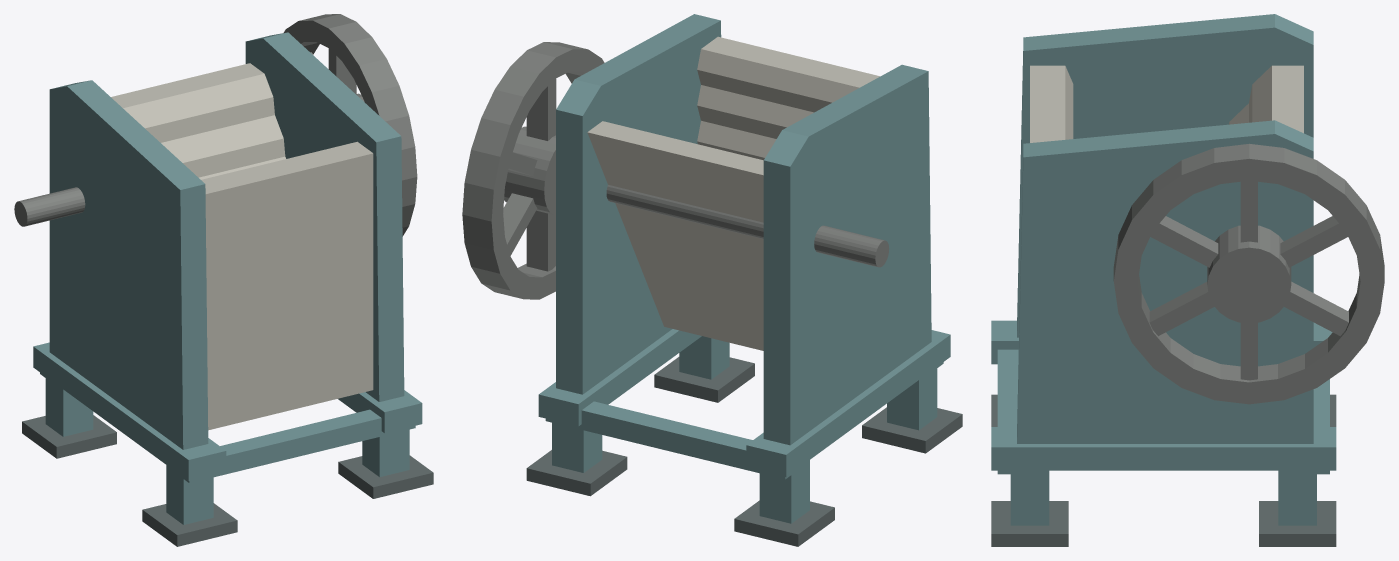
3 views of the same model, side by side, from view 1: azimuth 30°, elevation 25°; view 2: azimuth 150°, elevation 25°; view 3: azimuth 270°, elevation 25° (orthographic). The views are drawn at different scales.
Visible parts, largest first — view 1: LeftWholeCheekPlate, FixedFrontWholeCorrugatedJaw, RightWholeCheekPlate, InclinedRearWholeCorrugatedJaw, WholeBareFlywheelRim, LeftFullLowerRail, FrontChassisTie, LeftFrontFoot, RightFrontFoot, LeftRearFoot, LeftFrontShortLeg, RightFullLowerRail (+4 smaller); view 2: LeftWholeCheekPlate, RightWholeCheekPlate, InclinedRearWholeCorrugatedJaw, WholeBareFlywheelRim, FixedFrontWholeCorrugatedJaw, LeftFullLowerRail, RearChassisTie, WholeFixedRearJawPin, RightFullLowerRail, WholeFlywheelHub, RightFrontFoot, RightRearFoot (+9 smaller); view 3: RightWholeCheekPlate, LeftWholeCheekPlate, WholeBareFlywheelRim, RightFullLowerRail, WholeFlywheelHub, FixedFrontWholeCorrugatedJaw, InclinedRearWholeCorrugatedJaw, RightFrontFoot, RightRearFoot, RightFrontShortLeg, RightRearShortLeg, FrontChassisTie (+8 smaller).
Boxes of the visible parts, bbox=[...] form: LeftWholeCheekPlate: bbox=[49, 80, 208, 449]; FixedFrontWholeCorrugatedJaw: bbox=[201, 141, 373, 430]; RightWholeCheekPlate: bbox=[245, 32, 404, 401]; InclinedRearWholeCorrugatedJaw: bbox=[111, 63, 285, 179]; WholeBareFlywheelRim: bbox=[283, 14, 417, 236]; LeftFullLowerRail: bbox=[33, 342, 226, 480]; FrontChassisTie: bbox=[180, 409, 415, 483]; LeftFrontFoot: bbox=[142, 503, 237, 546]; RightFrontFoot: bbox=[338, 455, 433, 498]; LeftRearFoot: bbox=[22, 415, 116, 458]; LeftFrontShortLeg: bbox=[166, 465, 213, 524]; RightFullLowerRail: bbox=[338, 390, 422, 433]; LeftWholeCheekPlate: bbox=[763, 64, 931, 445]; RightWholeCheekPlate: bbox=[556, 14, 721, 394]; InclinedRearWholeCorrugatedJaw: bbox=[587, 121, 763, 350]; WholeBareFlywheelRim: bbox=[462, 42, 604, 299]; FixedFrontWholeCorrugatedJaw: bbox=[697, 36, 879, 160]; LeftFullLowerRail: bbox=[746, 330, 950, 476]; RearChassisTie: bbox=[545, 401, 797, 479]; WholeFixedRearJawPin: bbox=[606, 185, 889, 267]; RightFullLowerRail: bbox=[538, 329, 701, 426]; WholeFlywheelHub: bbox=[504, 126, 555, 214]; RightFrontFoot: bbox=[654, 357, 754, 402]; RightRearFoot: bbox=[526, 450, 627, 496]; RightWholeCheekPlate: bbox=[1017, 120, 1313, 443]; LeftWholeCheekPlate: bbox=[1017, 14, 1313, 337]; WholeBareFlywheelRim: bbox=[1113, 143, 1384, 404]; RightFullLowerRail: bbox=[991, 427, 1336, 470]; WholeFlywheelHub: bbox=[1207, 225, 1291, 323]; FixedFrontWholeCorrugatedJaw: bbox=[1030, 65, 1073, 142]; InclinedRearWholeCorrugatedJaw: bbox=[1229, 65, 1303, 133]; RightFrontFoot: bbox=[991, 501, 1068, 546]; RightRearFoot: bbox=[1259, 501, 1336, 546]; RightFrontShortLeg: bbox=[1010, 470, 1049, 525]; RightRearShortLeg: bbox=[1278, 470, 1316, 525]; FrontChassisTie: bbox=[997, 349, 1022, 474].
Bounding box in the file's own units: 1.37 × 1.4 × 1.22.
